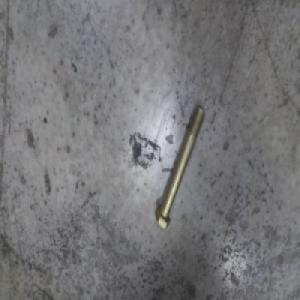Bolt: (154, 106, 204, 230)
